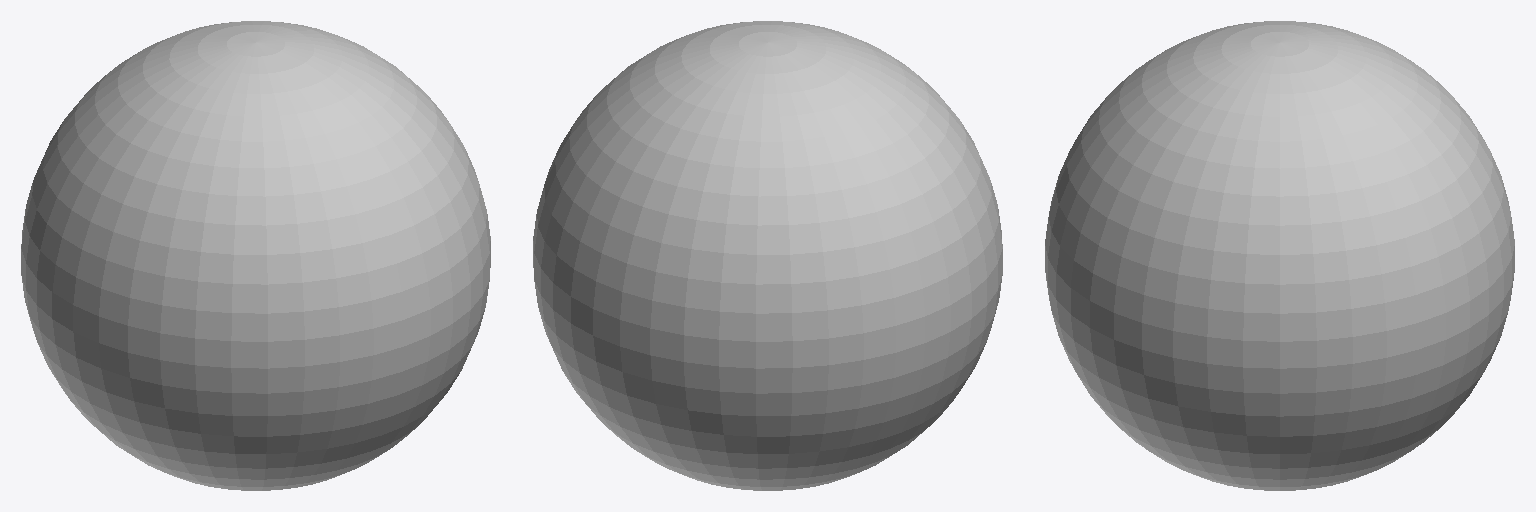
Rendered from sphere_super_smooth2.obj.
The picture shows the model from 3 angles: view 1: azimuth 30°, elevation 25°; view 2: azimuth 150°, elevation 25°; view 3: azimuth 270°, elevation 25°; orthographic projection.
Visible parts, largest first — view 1: Sphere; view 2: Sphere; view 3: Sphere.
Boxes of the visible parts, <box> form: Sphere: <box>21,21,490,490</box>; Sphere: <box>533,21,1002,490</box>; Sphere: <box>1045,21,1514,490</box>.
Size of the model in its own units: 3.33 by 3.33 by 3.33.